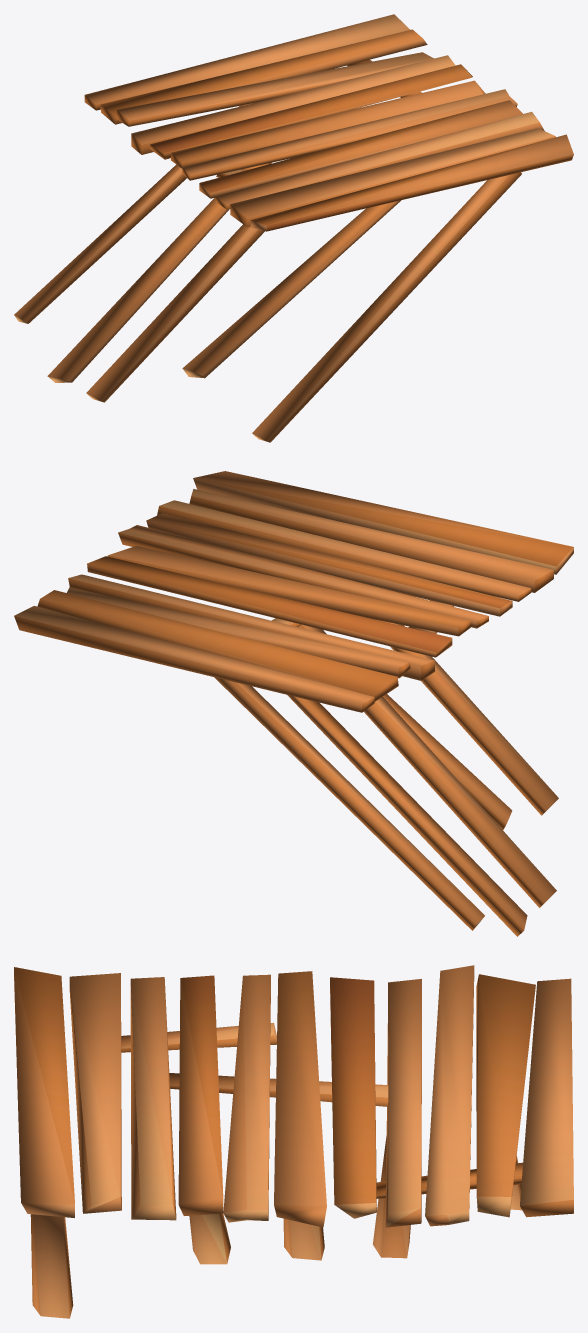
File: GL-Manmade-01.fbx
The picture shows the model from 3 angles, top to bottom: view 1: azimuth 30°, elevation 25°; view 2: azimuth 150°, elevation 25°; view 3: azimuth 270°, elevation 25°; orthographic projection. The views are drawn at different scales.
Parts seen in each view (by area): view 1: GL-Manmade-01; view 2: GL-Manmade-01; view 3: GL-Manmade-01.
Part boxes in pixels (x1,y1,x2,y2): GL-Manmade-01: (14,14,573,442); GL-Manmade-01: (14,471,573,936); GL-Manmade-01: (14,965,573,1318).
Size of the model in its own units: 2.24 by 1.23 by 1.77.
